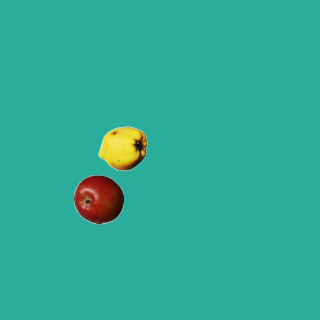Apple Braeburn: (73, 174, 123, 224)
Quince: (97, 123, 147, 173)
